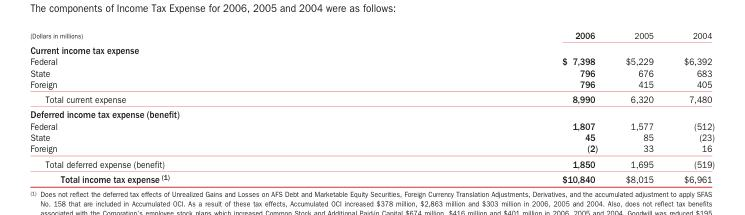table: (29, 29, 713, 184)
table column: (29, 29, 365, 184), (365, 29, 610, 184), (610, 29, 667, 184), (667, 29, 713, 184)
table column header: (29, 29, 713, 41)
table projected row header: (29, 41, 713, 55), (29, 106, 713, 119)
table row: (29, 91, 713, 106), (29, 155, 713, 170), (29, 41, 713, 55), (29, 170, 713, 184), (29, 78, 713, 91), (29, 106, 713, 119), (29, 142, 713, 155), (29, 29, 713, 41), (29, 66, 713, 78), (29, 119, 713, 131), (29, 55, 713, 66), (29, 131, 713, 142)
